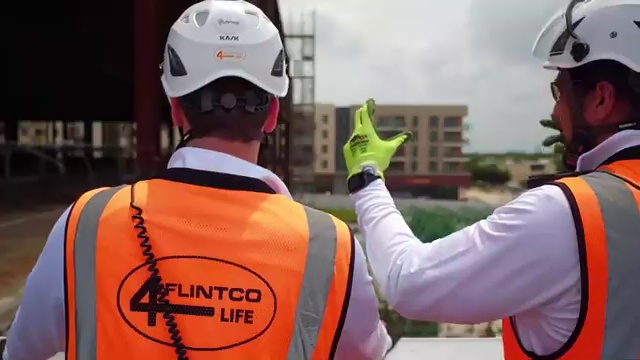helmet: (58, 174, 355, 360)
